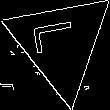L_E: (34, 24, 87, 63)
